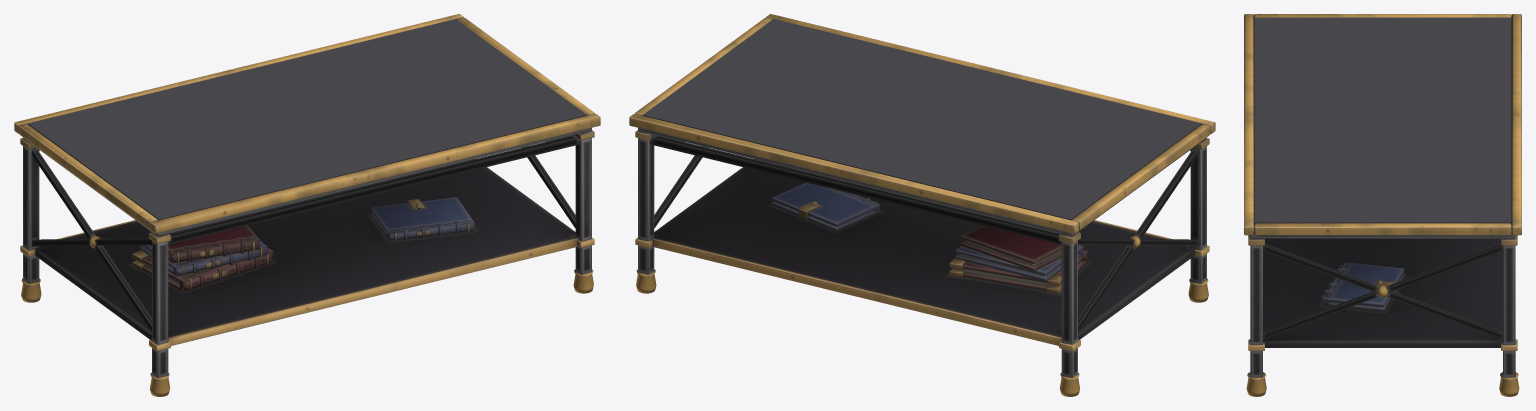
Rendered from TableCoffee.fbx.
The picture shows the model from 3 angles, left to right: view 1: azimuth 30°, elevation 25°; view 2: azimuth 150°, elevation 25°; view 3: azimuth 270°, elevation 25°; orthographic projection.
Parts seen in each view (by area): view 1: TableCoffee_Main, TableCoffee_Glass; view 2: TableCoffee_Main, TableCoffee_Glass; view 3: TableCoffee_Glass, TableCoffee_Main.
Part boxes in pixels (<box>): TableCoffee_Main: <box>14,14,600,396</box>; TableCoffee_Glass: <box>27,19,587,220</box>; TableCoffee_Main: <box>629,14,1215,396</box>; TableCoffee_Glass: <box>642,19,1202,220</box>; TableCoffee_Glass: <box>1254,17,1511,223</box>; TableCoffee_Main: <box>1244,14,1521,396</box>.
Size of the model in its own units: 400 by 150 by 220.
